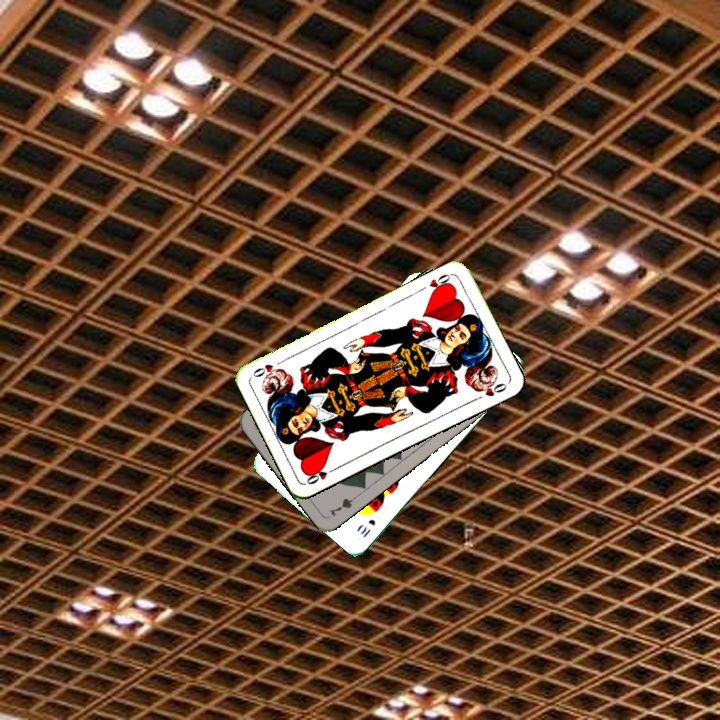G7: (325, 490, 362, 519)
HO: (302, 463, 340, 487), (425, 269, 455, 296)
S10: (356, 515, 378, 540)
